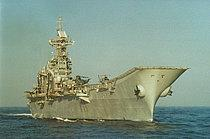MIL_Ship: (26, 15, 190, 122)
